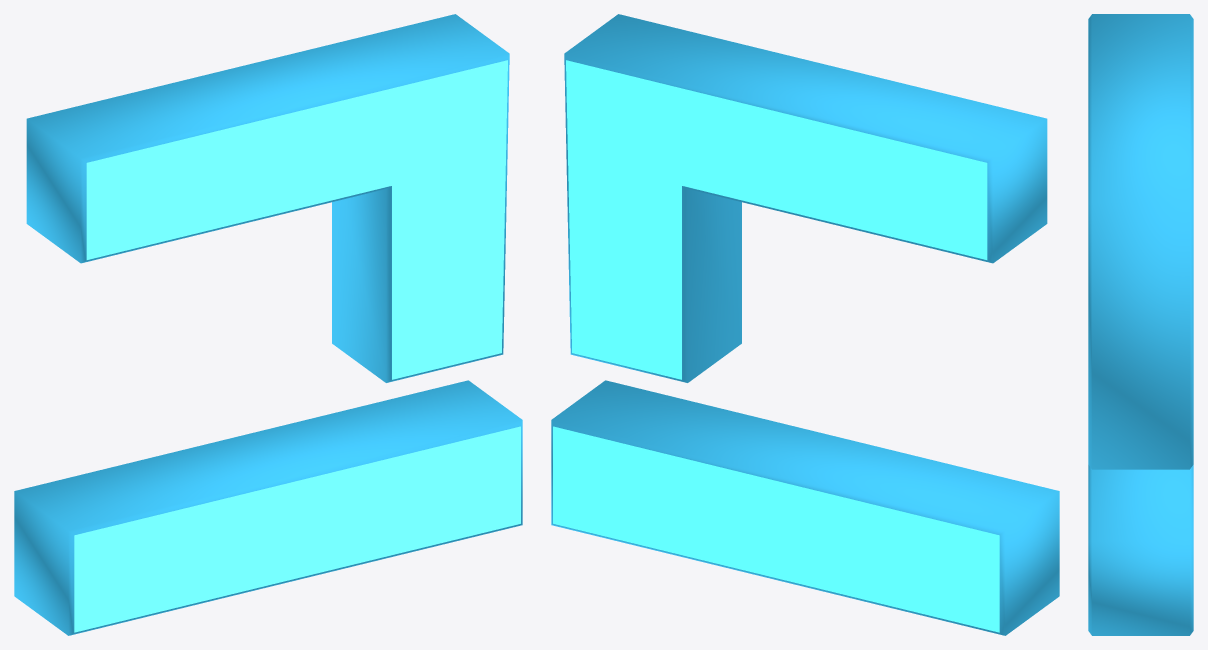
The model's file is u_adf8_b.glb.
The picture shows the model from 3 angles, left to right: view 1: azimuth 30°, elevation 25°; view 2: azimuth 150°, elevation 25°; view 3: azimuth 270°, elevation 25°; orthographic projection. The views are drawn at different scales.
Parts seen in each view (by area): view 1: glyph; view 2: glyph; view 3: glyph.
Boxes of the visible parts, x1,y1,x2,y2 form: glyph: [14, 14, 522, 635]; glyph: [551, 14, 1059, 635]; glyph: [1088, 14, 1193, 635].
Bounding box in the file's own units: 0.0726 × 0.0725 × 0.0162.
